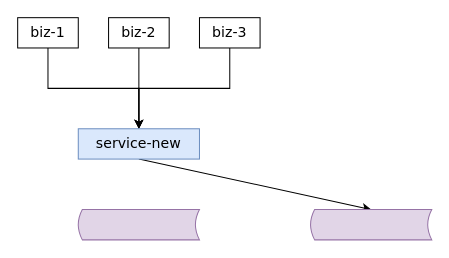
Image size: 449x258. Some labels were removed from this diagram. Each missing label, with the centre of its shape:
"db-new" goes at [371,224].
"db-old" goes at [138,224].
